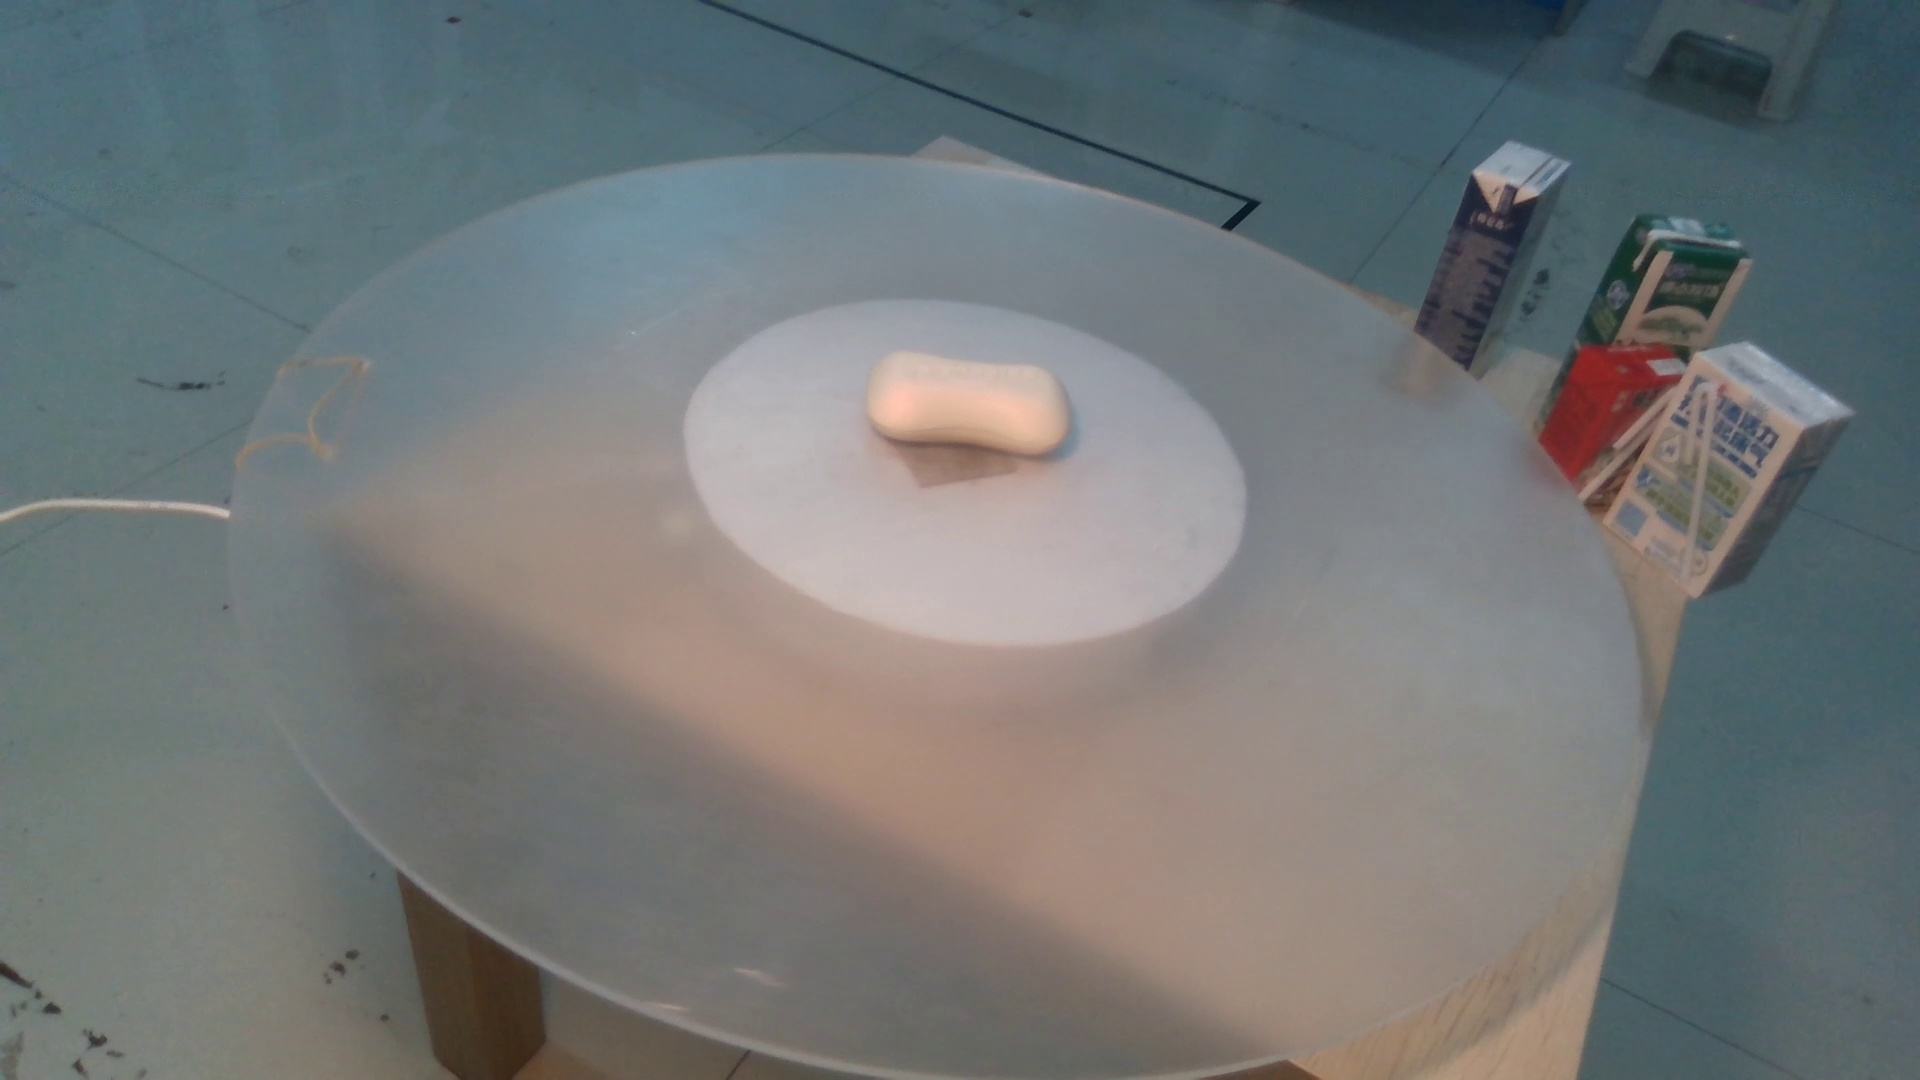CA003_1: (847, 336, 1120, 468)
